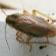cockroach: (4, 12, 56, 38)
